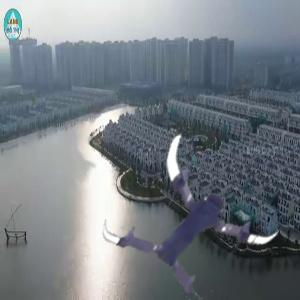drone: (118, 136, 282, 300)
